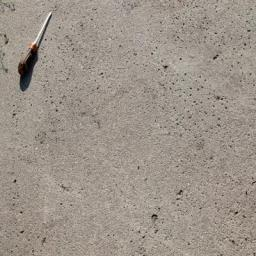FOD: (19, 11, 56, 93)
